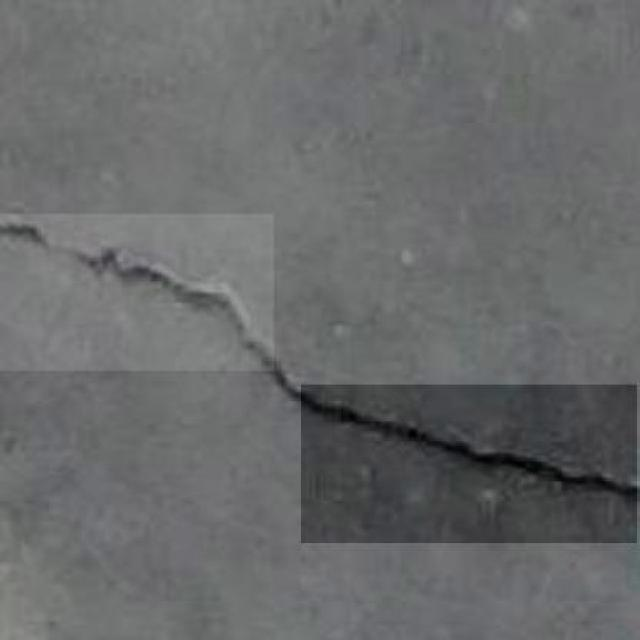crack: (0, 198, 640, 550)
